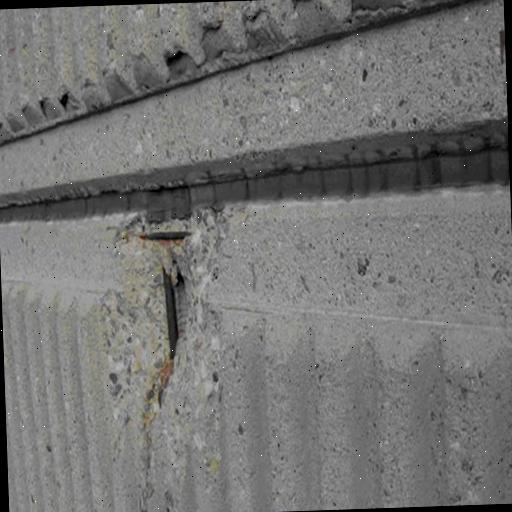spalling: (108, 216, 220, 465)
